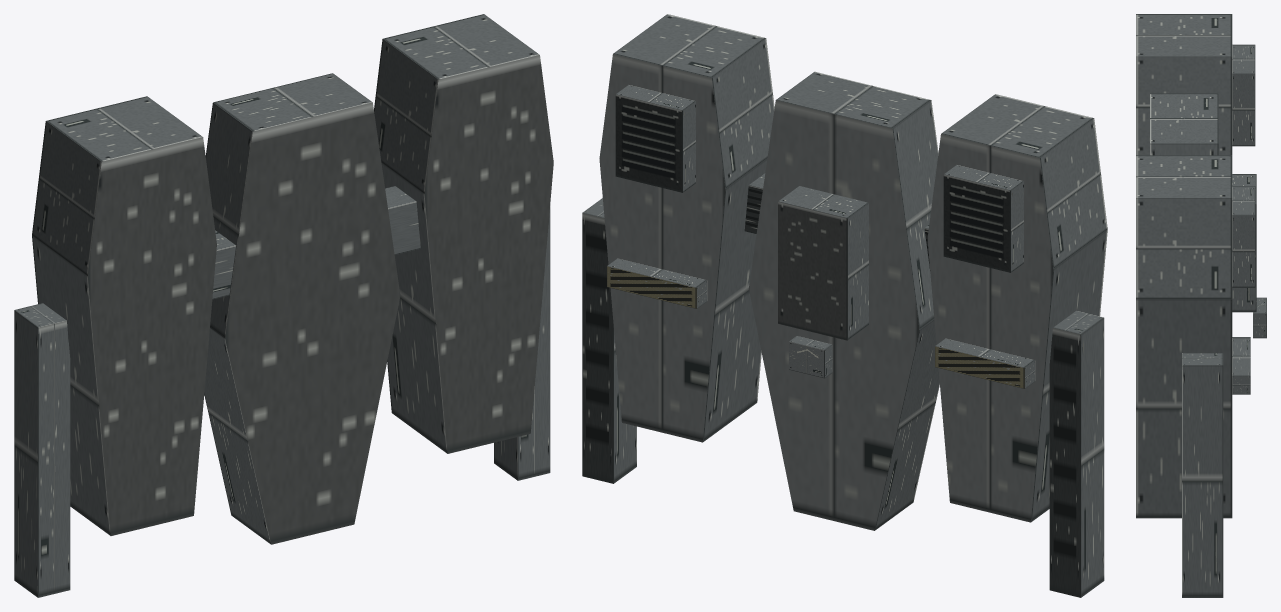
File: Enemy_2.obj
3 renders of one model, left to right at view 1: azimuth 30°, elevation 25°; view 2: azimuth 150°, elevation 25°; view 3: azimuth 270°, elevation 25°, orthographic. The views are drawn at different scales.
Size of the model in its own units: 2.22 by 1.85 by 0.57.
1 material, 1 textured.
